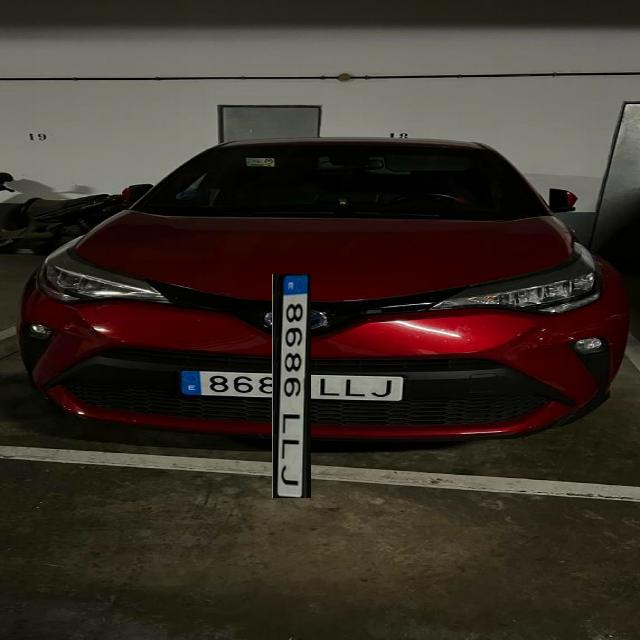License-Plate: (226, 321, 358, 452)
